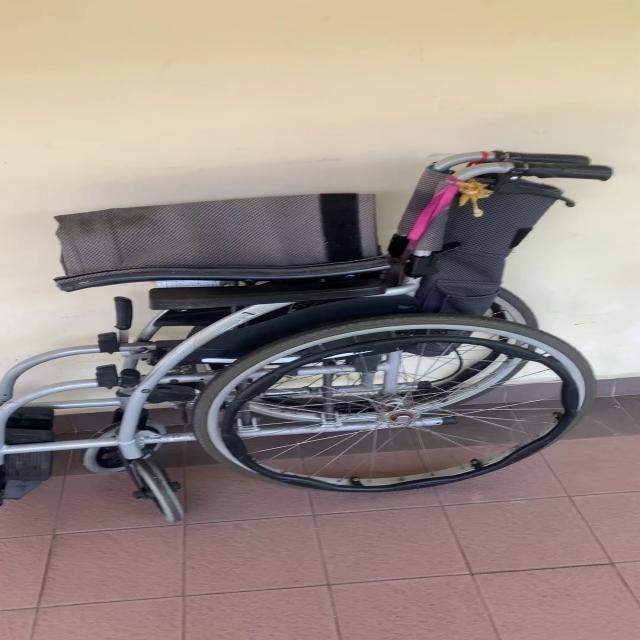wheelchair: (0, 123, 627, 529)
